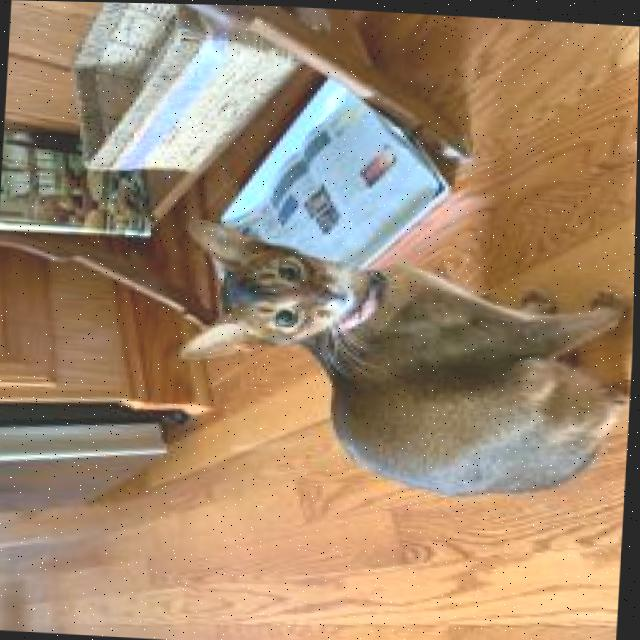Abyssinian: (159, 211, 636, 507)
